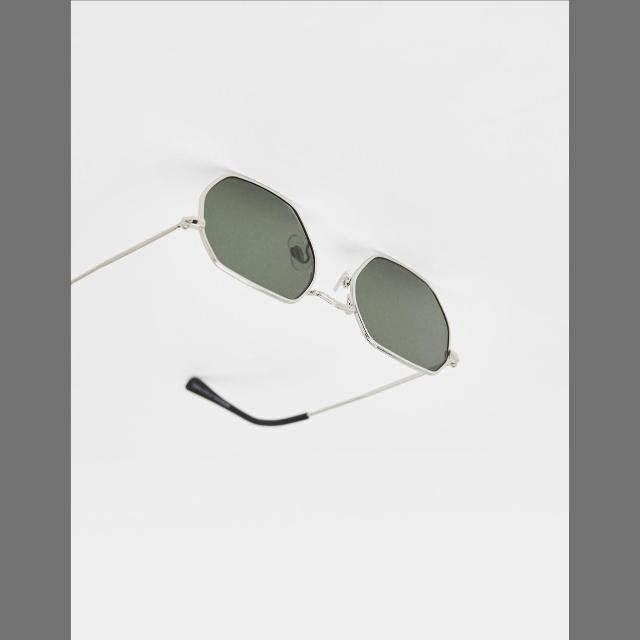Sunglasses: (70, 100, 498, 482)
